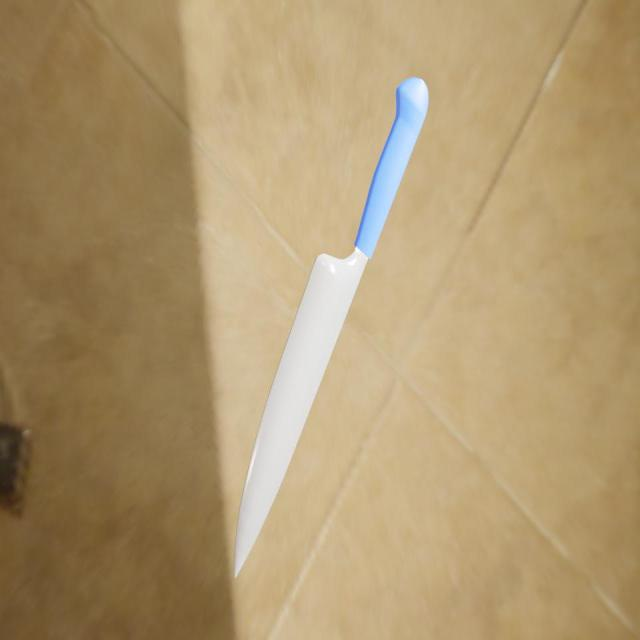knife: (354, 76, 429, 259)
